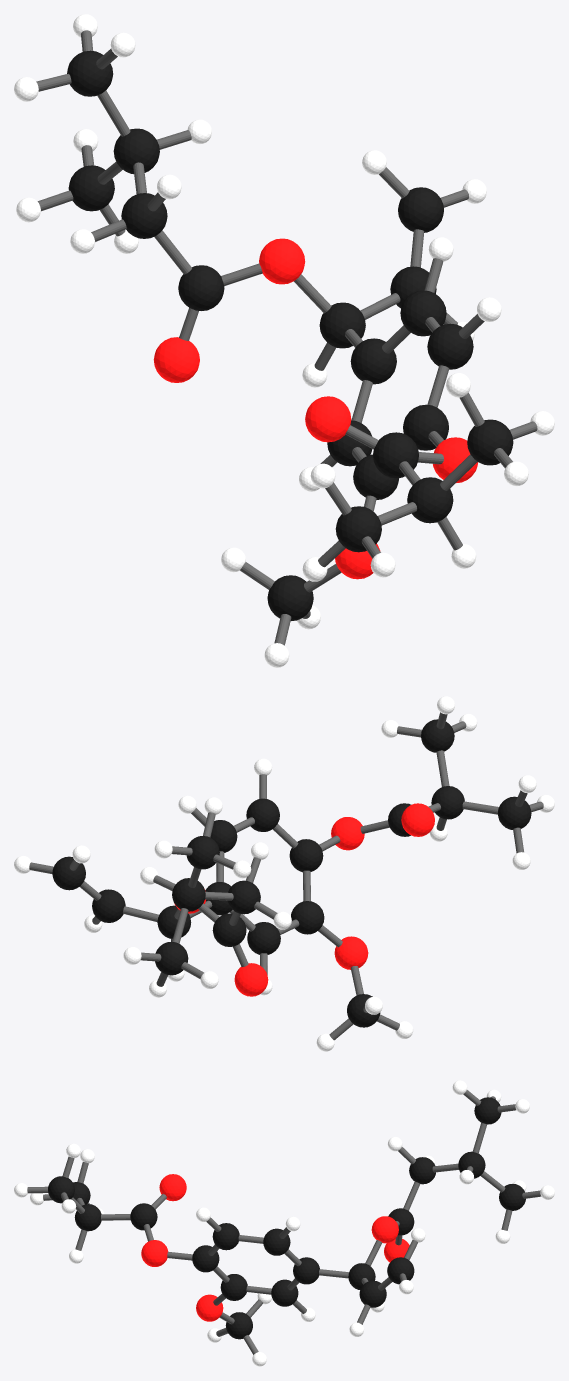
The model's file is molecule.glb.
3 renders of one model, top to bottom at view 1: azimuth 30°, elevation 25°; view 2: azimuth 150°, elevation 25°; view 3: azimuth 270°, elevation 25°, orthographic. The views are drawn at different scales.
Parts seen in each view (by area): view 1: geometry_16, geometry_3, geometry_5, geometry_4, geometry_0, geometry_12, geometry_10, geometry_22, geometry_17, geometry_15, geometry_7, geometry_8 (+12 smaller); view 2: geometry_16, geometry_5, geometry_13, geometry_23, geometry_1, geometry_12, geometry_20, geometry_21, geometry_6, geometry_17, geometry_9, geometry_14 (+11 smaller); view 3: geometry_3, geometry_14, geometry_16, geometry_15, geometry_9, geometry_20, geometry_6, geometry_10, geometry_12, geometry_1, geometry_8, geometry_13 (+11 smaller).
Boxes of the visible parts, left/top/right/bottom form: geometry_16: left=305, top=396, right=351, bottom=442; geometry_3: left=259, top=238, right=305, bottom=284; geometry_5: left=153, top=337, right=199, bottom=382; geometry_4: left=178, top=265, right=224, bottom=310; geometry_0: left=398, top=187, right=443, bottom=232; geometry_12: left=427, top=323, right=473, bottom=369; geometry_10: left=350, top=338, right=396, bottom=384; geometry_22: left=267, top=575, right=313, bottom=620; geometry_17: left=407, top=477, right=453, bottom=523; geometry_15: left=373, top=432, right=418, bottom=478; geometry_7: left=113, top=128, right=159, bottom=174; geometry_8: left=68, top=165, right=114, bottom=211; geometry_16: left=401, top=803, right=434, bottom=836; geometry_5: left=234, top=963, right=268, bottom=996; geometry_13: left=289, top=839, right=323, bottom=872; geometry_23: left=247, top=922, right=280, bottom=954; geometry_1: left=92, top=889, right=125, bottom=922; geometry_12: left=246, top=798, right=279, bottom=831; geometry_20: left=291, top=901, right=324, bottom=934; geometry_21: left=334, top=936, right=368, bottom=969; geometry_6: left=227, top=880, right=260, bottom=914; geometry_17: left=431, top=786, right=464, bottom=819; geometry_9: left=186, top=836, right=219, bottom=869; geometry_14: left=331, top=817, right=364, bottom=850; geometry_3: left=371, top=1216, right=398, bottom=1243; geometry_14: left=141, top=1240, right=168, bottom=1266; geometry_16: left=159, top=1174, right=186, bottom=1201; geometry_15: left=130, top=1203, right=157, bottom=1230; geometry_9: left=474, top=1097, right=501, bottom=1124; geometry_20: left=220, top=1274, right=247, bottom=1300; geometry_6: left=409, top=1157, right=435, bottom=1184; geometry_10: left=293, top=1257, right=319, bottom=1284; geometry_12: left=212, top=1223, right=239, bottom=1250; geometry_1: left=359, top=1280, right=386, bottom=1307; geometry_8: left=499, top=1184, right=525, bottom=1210; geometry_13: left=192, top=1245, right=219, bottom=1272.
Bounding box in the file's own units: 0.1436 × 0.1469 × 0.257.
